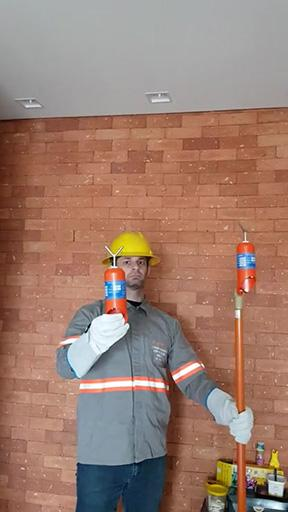Detector_Tensao_Contato: (101, 245, 128, 325), (234, 220, 258, 298)
Vara_Manobra: (230, 294, 249, 512)
